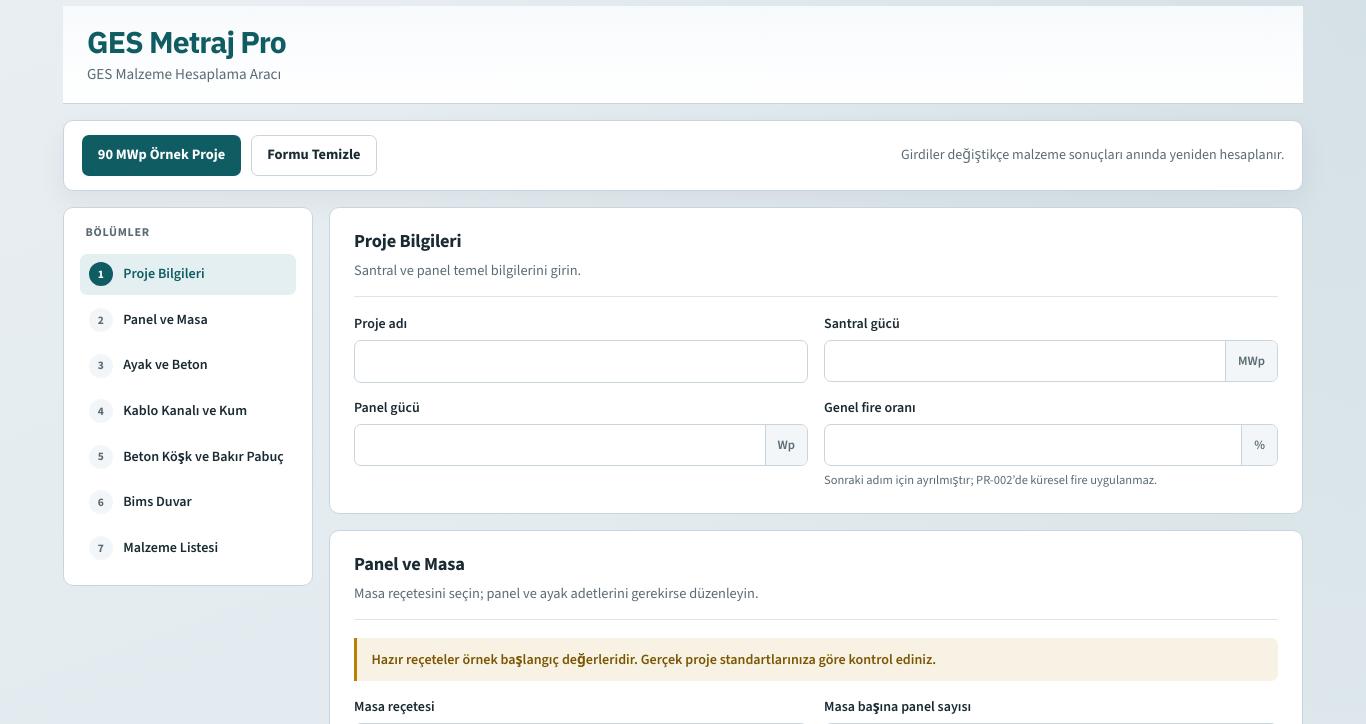
Test: GES Metraj Pro — PR-002 / PR-003 calculations › loads multi-row example content
This screenshot has width=1366, height=724.
Click the button "90 MWp Örnek Proje": (162, 156) [82,135,242,176]
(page scrolled)
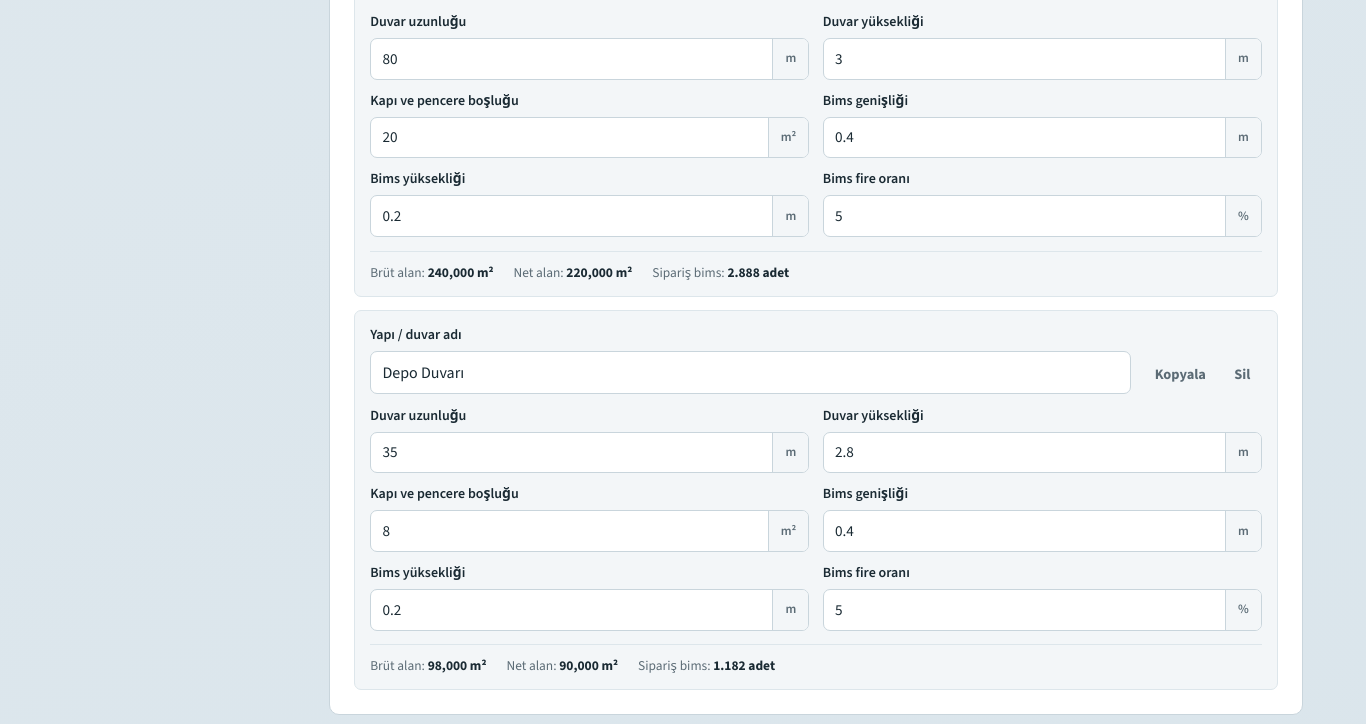
Expected: the 2nd field showing "Depo Duvarı" is shown, [370,351,1131,394]
